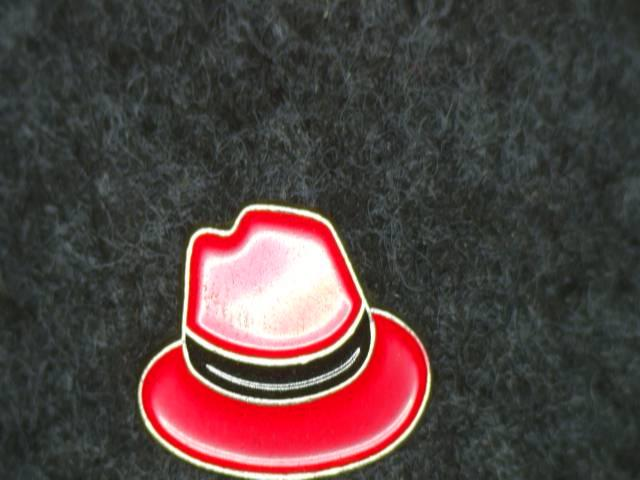Red-Hat: (121, 181, 458, 480)
